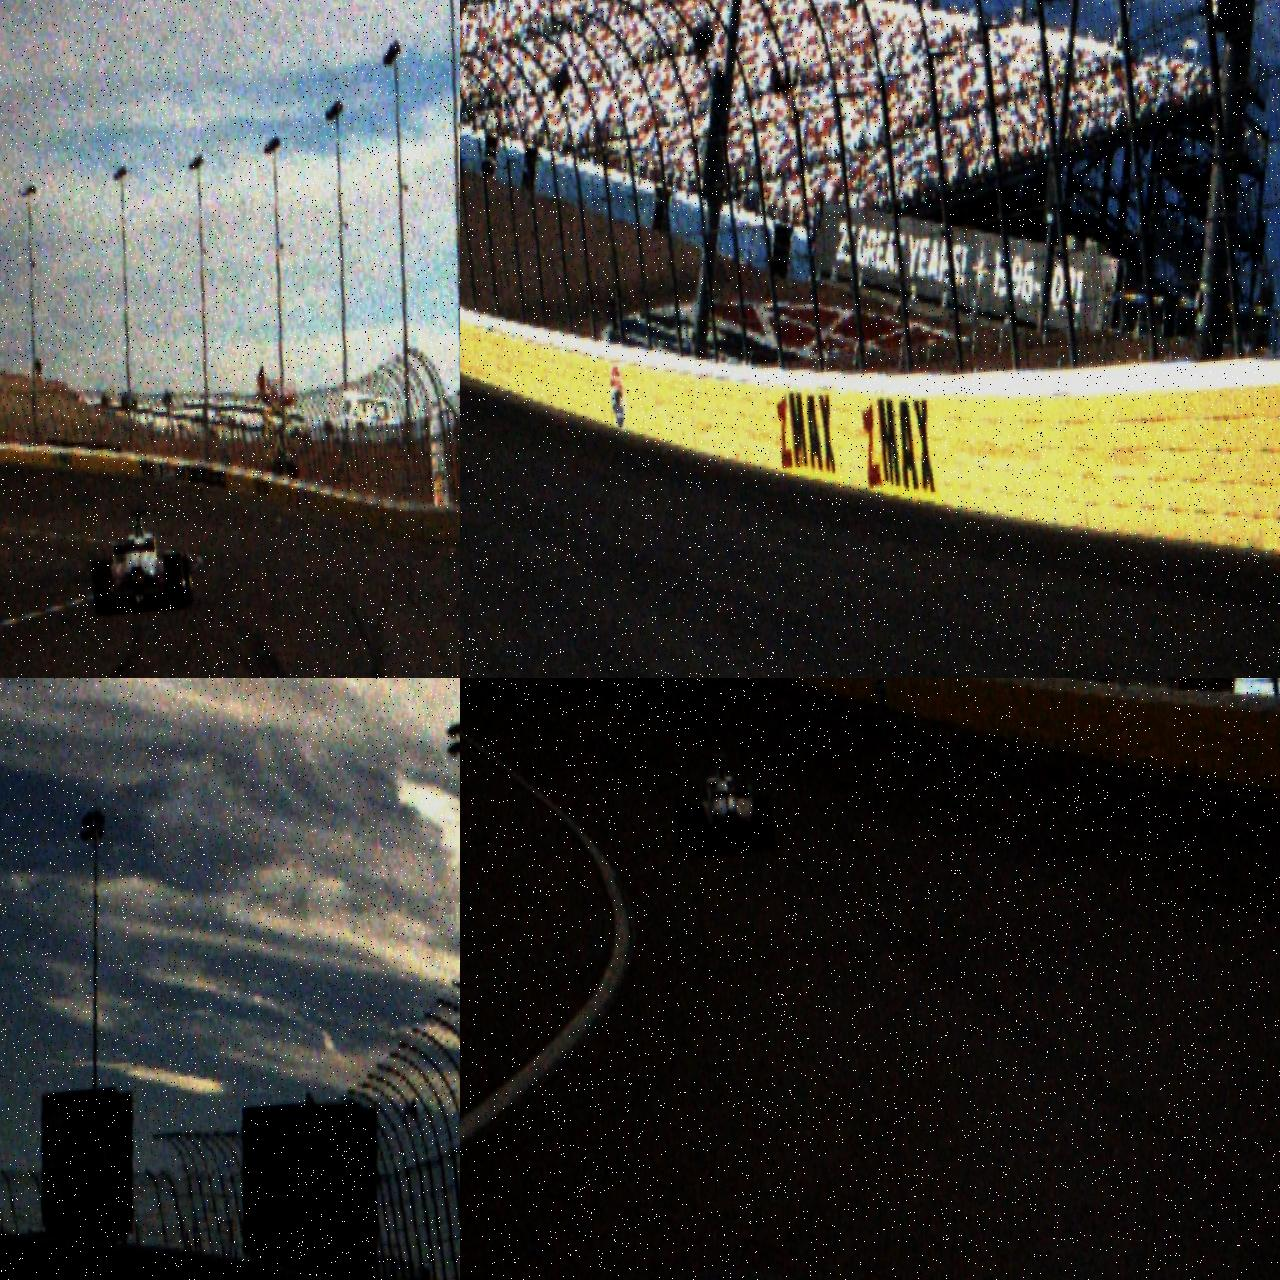AV: (86, 506, 195, 615), (670, 746, 776, 858)
Wheel: (163, 553, 187, 609), (92, 558, 115, 616), (754, 796, 776, 850), (687, 806, 709, 856), (674, 797, 693, 845), (177, 556, 194, 604)
